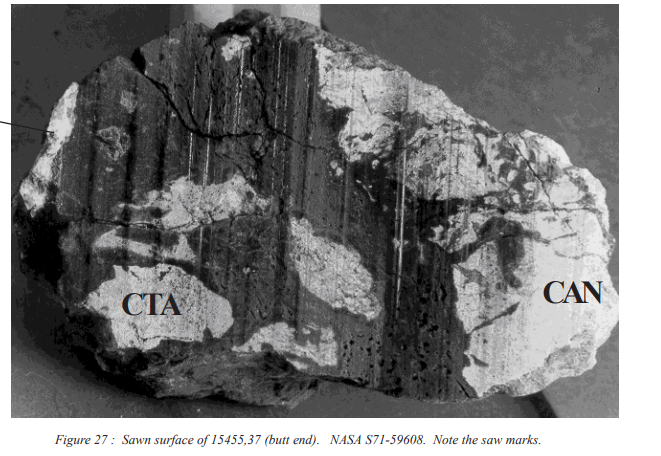Breccia: (142, 30, 608, 402), (158, 27, 614, 392), (106, 109, 510, 392), (30, 74, 371, 398)
